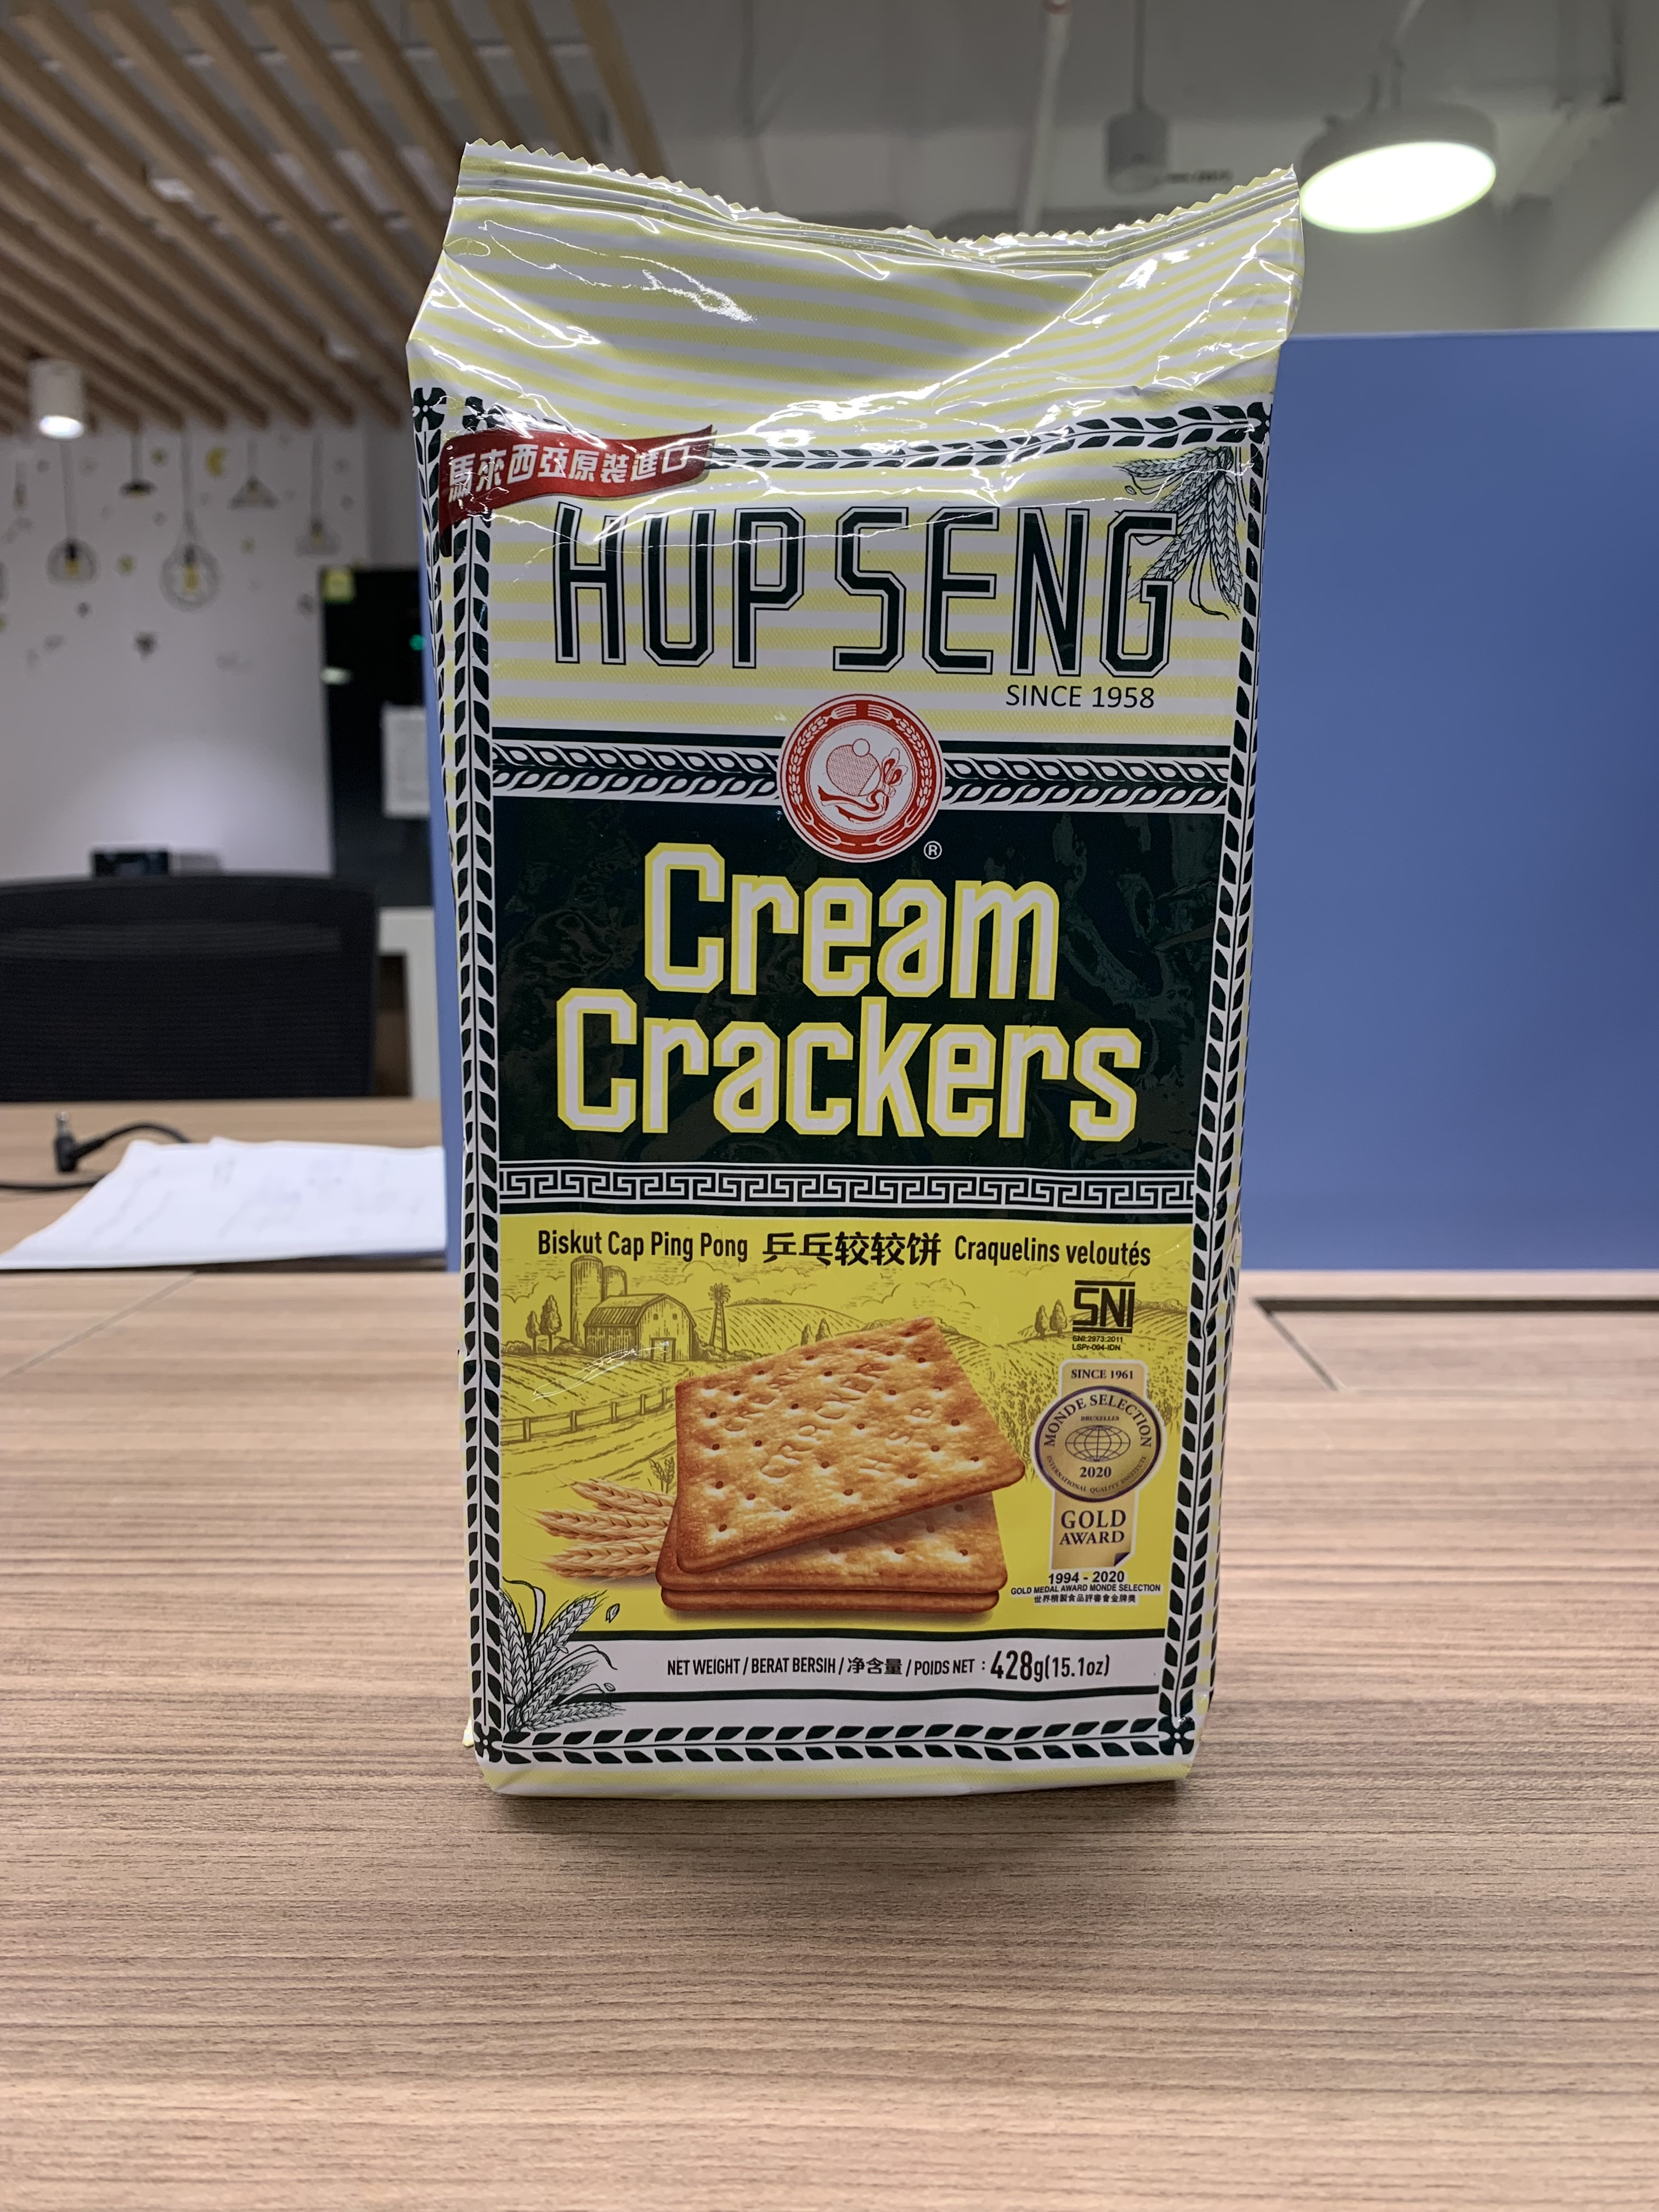crackers_400g-499g: (464, 228, 1178, 1761)
